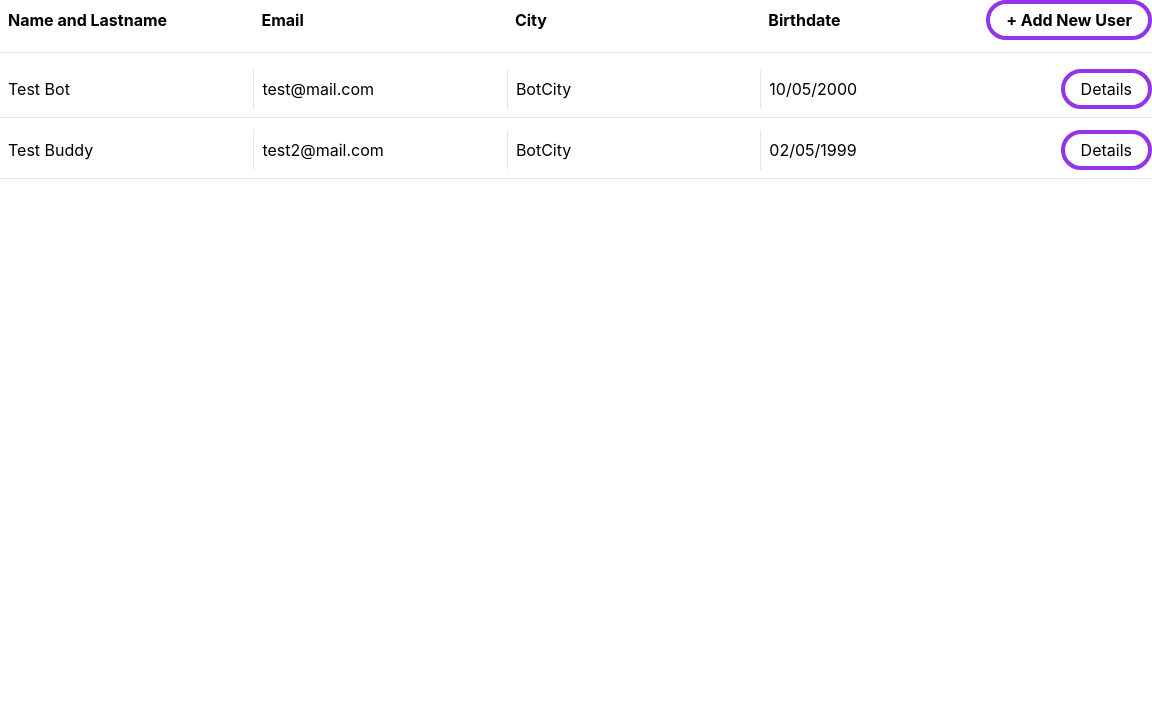
expect modal to open on button click
Step 1. Click the button "+ Add New User" → click(1069, 20), box x1=986 y1=0 x2=1151 y2=40
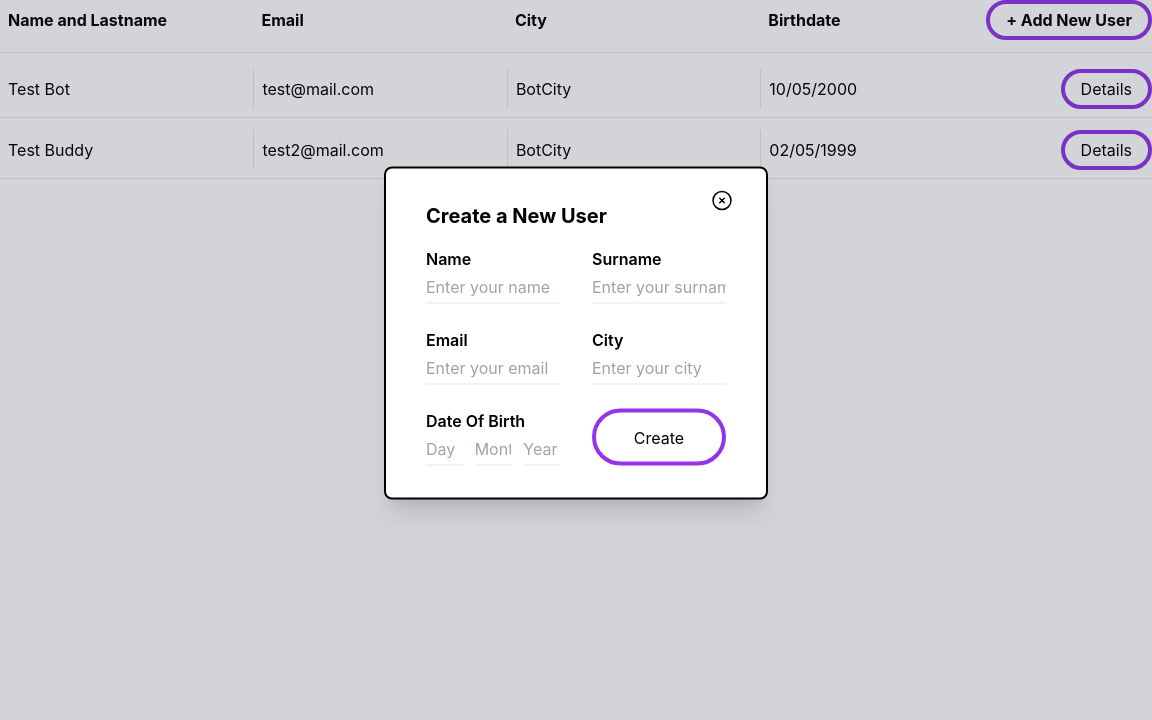
Expected: the element with test id "modal" is shown
